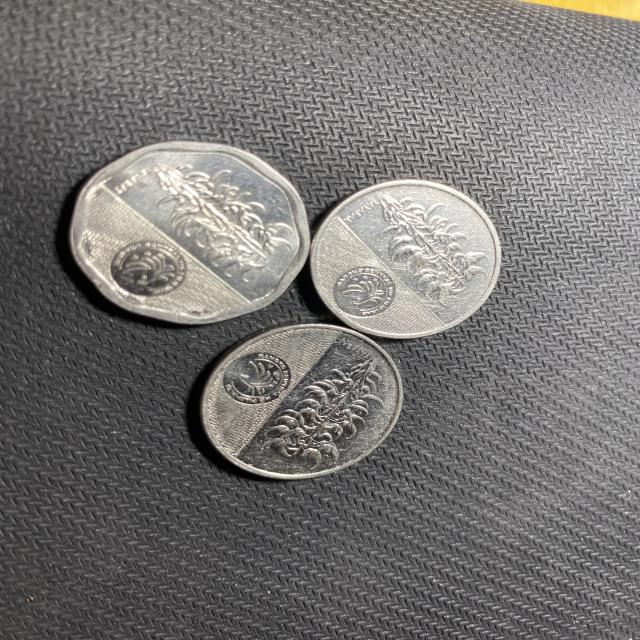5_New_Back: (142, 165, 286, 279), (265, 361, 382, 465), (379, 194, 491, 296)
